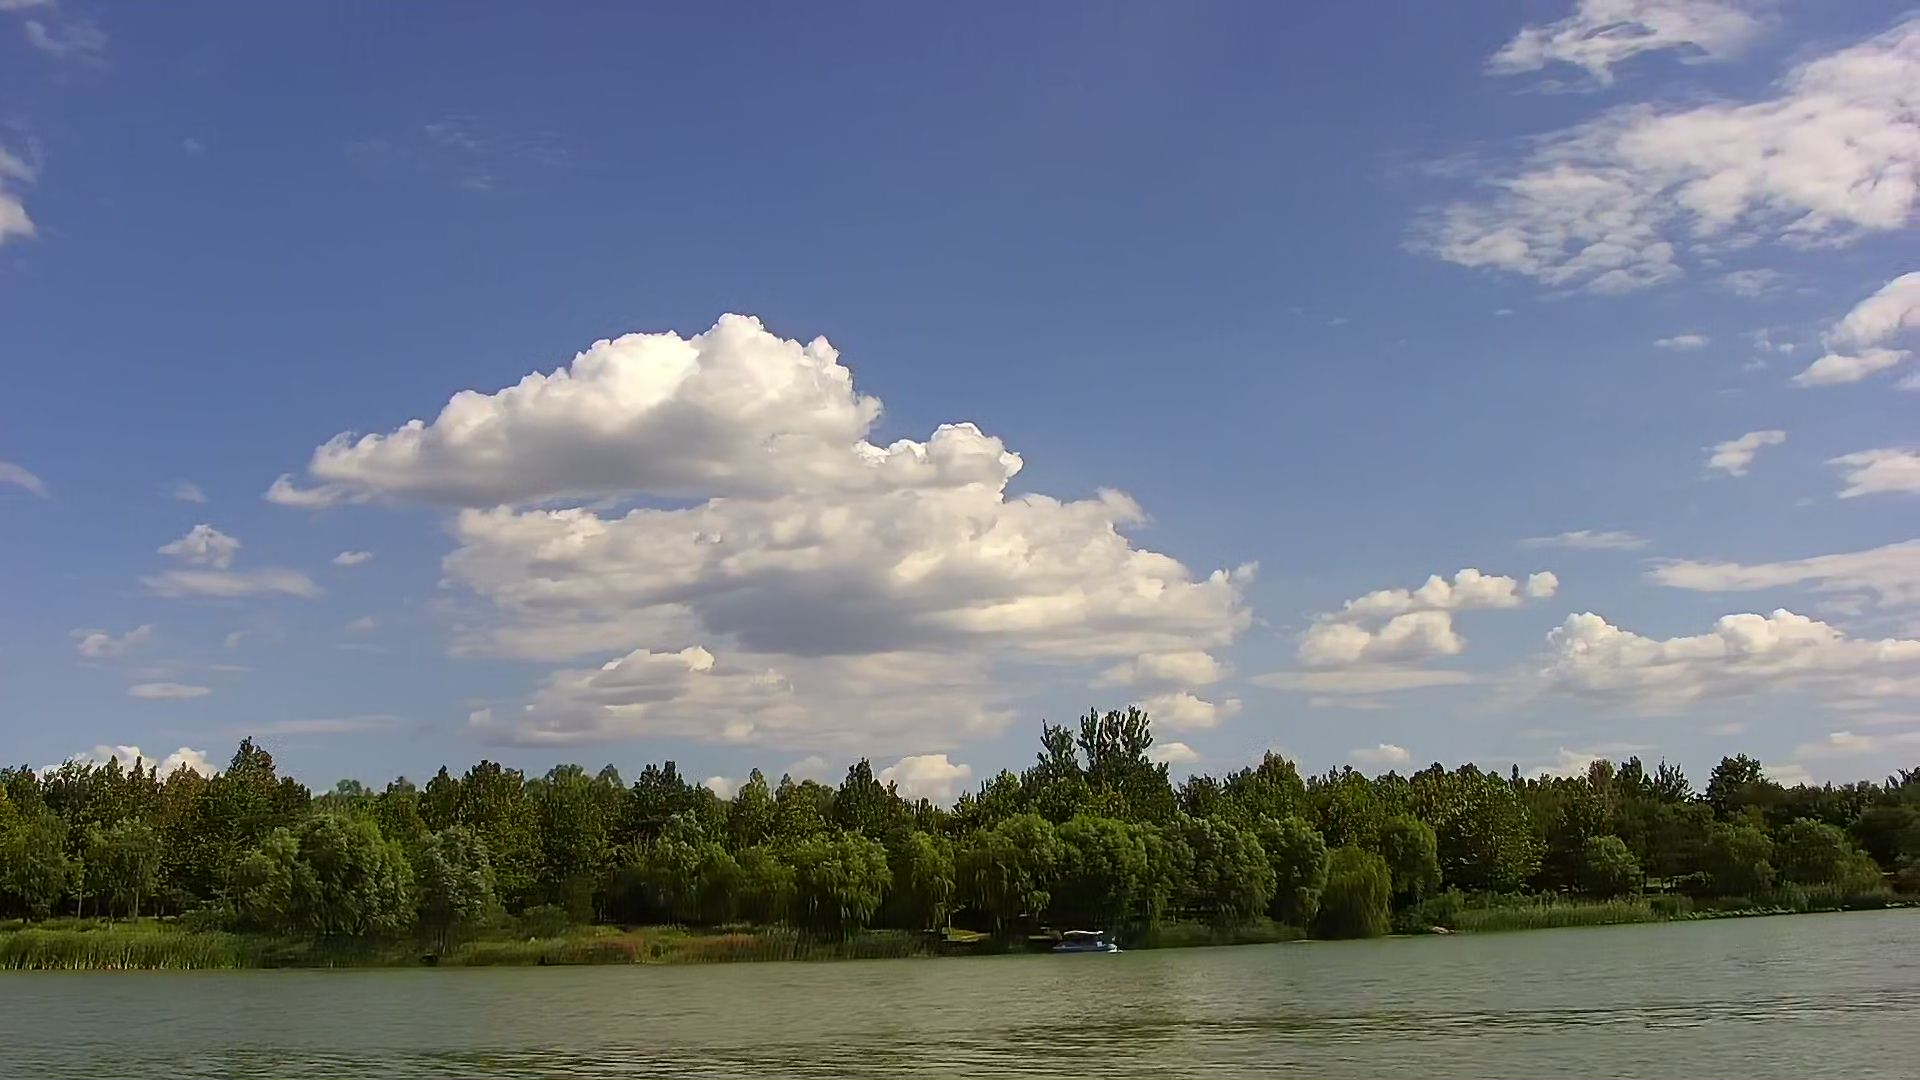boat: (1048, 930, 1118, 957)
